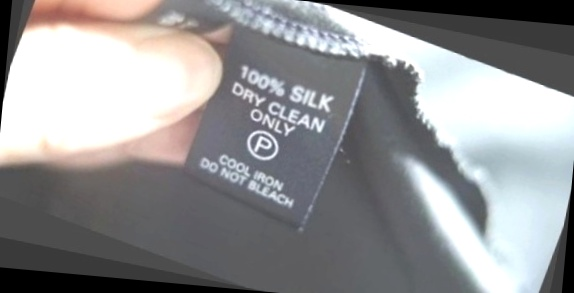dry_clean_any_solvent_except_trichloroethylene: (242, 124, 287, 166)
